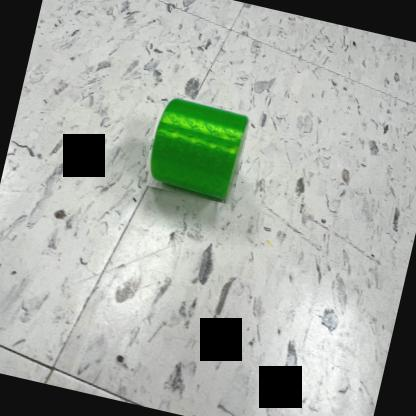green cylinder: (141, 93, 252, 205)
